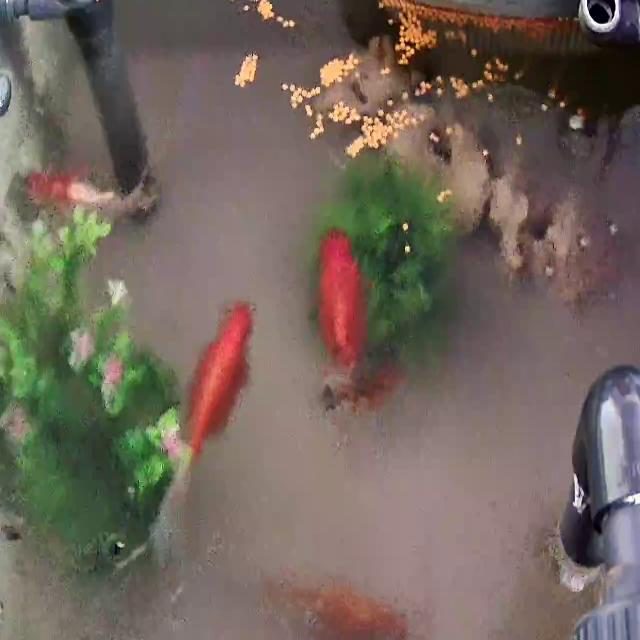fish: (182, 300, 254, 464), (313, 234, 372, 376), (313, 583, 404, 640), (331, 365, 403, 415), (24, 169, 94, 207)
